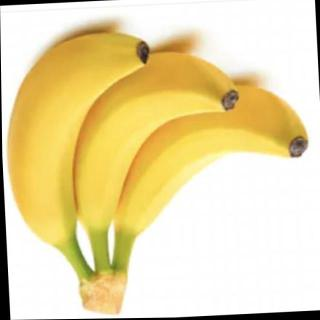banana: (60, 45, 245, 236), (0, 26, 160, 246), (100, 77, 314, 238)
